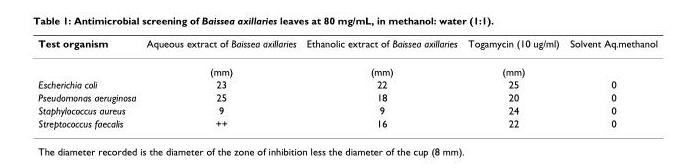table: (37, 36, 656, 128)
table column: (300, 36, 462, 128), (140, 36, 300, 128), (37, 36, 140, 128), (462, 36, 564, 128), (564, 36, 656, 128)
table column header: (37, 36, 656, 57)
table row: (37, 36, 656, 57), (37, 57, 656, 77), (37, 77, 656, 90), (37, 90, 656, 103), (37, 103, 656, 116), (37, 116, 656, 128)
